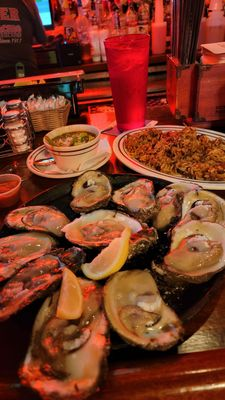pizza: (103, 33, 150, 133)
sushi: (112, 125, 225, 192), (0, 173, 22, 210)
taco: (81, 230, 131, 281)
